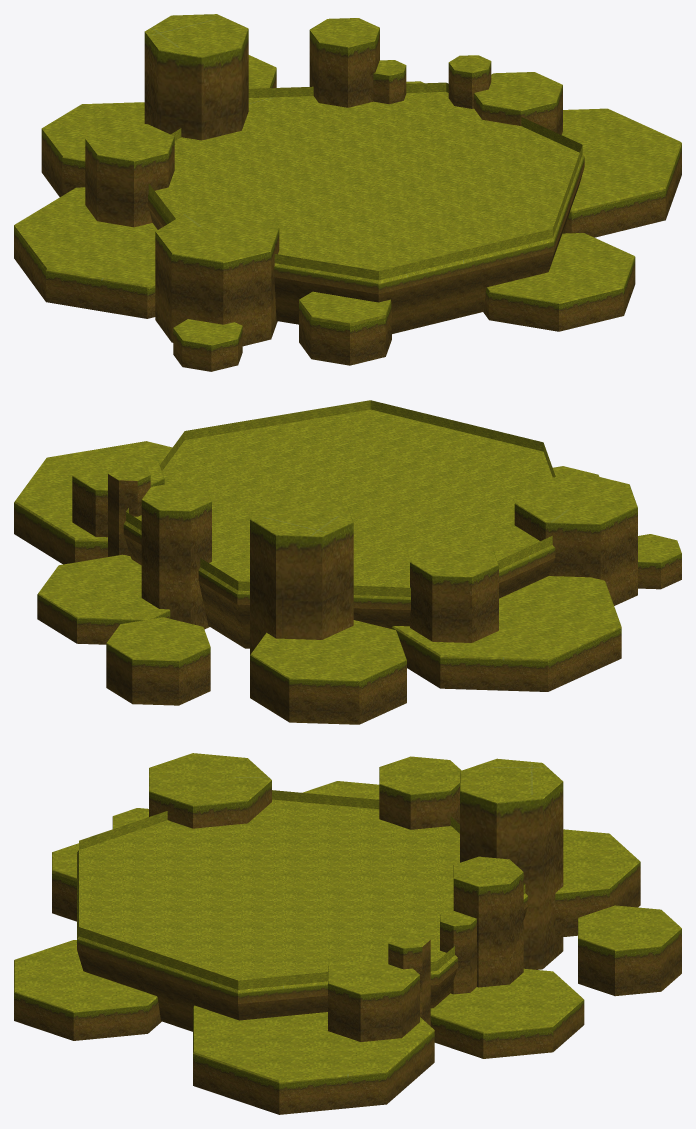
File: map_spring 1.fbx
3 views of the same model, one above another, from view 1: azimuth 30°, elevation 25°; view 2: azimuth 150°, elevation 25°; view 3: azimuth 270°, elevation 25° (orthographic). The views are drawn at different scales.
Visible parts, largest first — view 1: GROUND BROUN.018, GROUND BROUN.001, fence.001; view 2: GROUND BROUN.018, GROUND BROUN.001, fence.001; view 3: GROUND BROUN.018, GROUND BROUN.001, fence.001.
Part boxes in pixels (x1,y1,x2,y2): GROUND BROUN.018: (14, 14, 681, 371); GROUND BROUN.001: (148, 92, 584, 333); fence.001: (148, 82, 582, 280); GROUND BROUN.018: (14, 441, 681, 724); GROUND BROUN.001: (123, 409, 555, 648); fence.001: (126, 400, 555, 596); GROUND BROUN.018: (14, 753, 681, 1114); GROUND BROUN.001: (77, 799, 527, 1031); fence.001: (79, 790, 525, 989).
Size of the model in its own units: 101 by 26.78 by 95.07.
